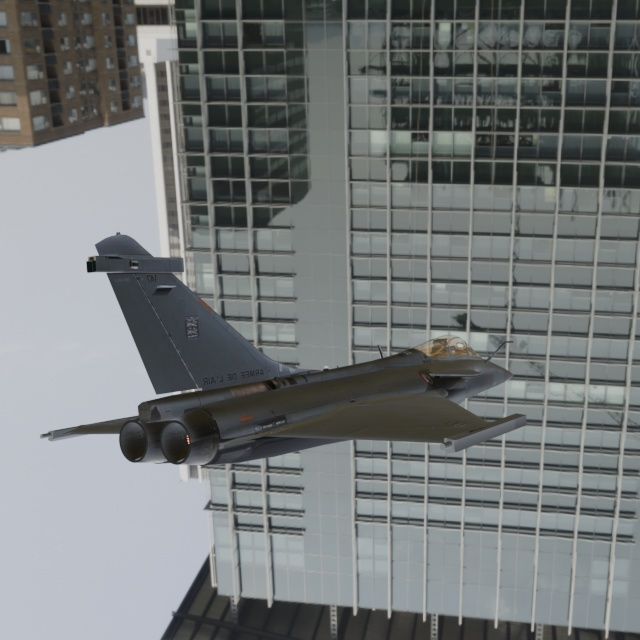dassault_rafale: (0, 189, 640, 525)
